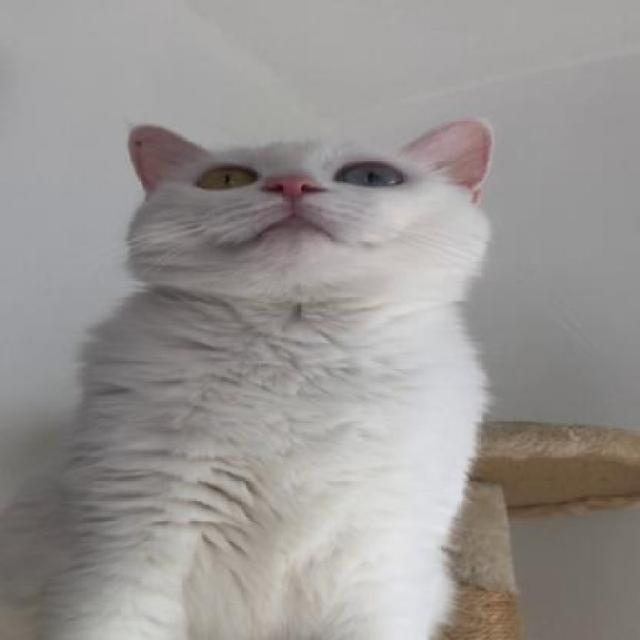cat-face: (122, 121, 495, 297)
